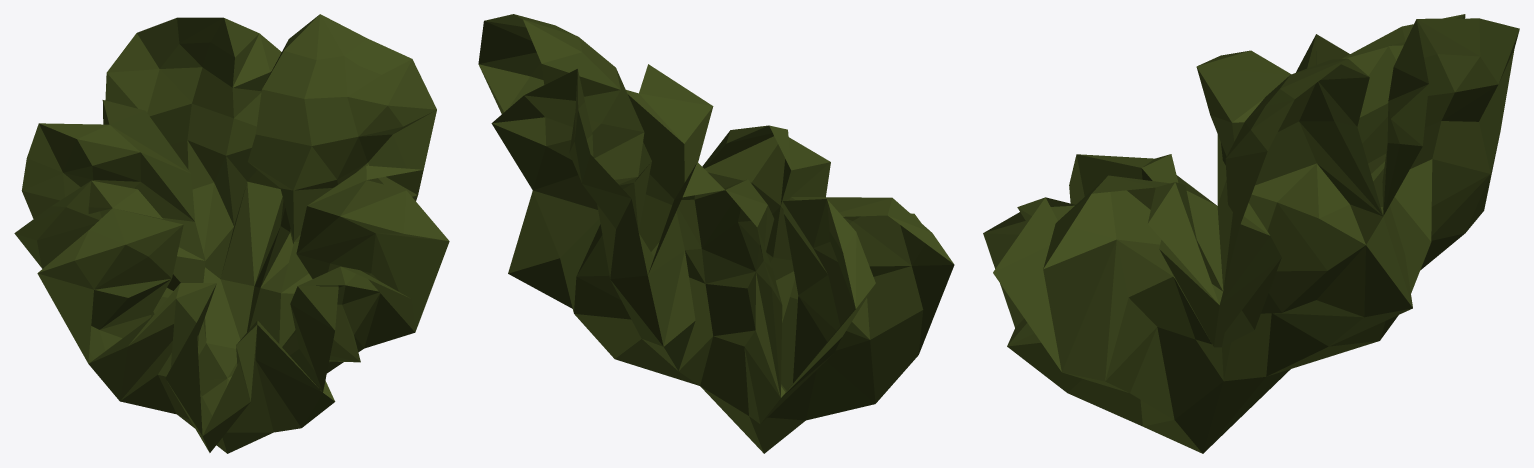
File: SM_Seaweed_Salad_Dead_A.fbx
The picture shows the model from 3 angles, left to right: view 1: azimuth 30°, elevation 25°; view 2: azimuth 150°, elevation 25°; view 3: azimuth 270°, elevation 25°; orthographic projection. The views are drawn at different scales.
Visible parts, largest first — view 1: seaweed-salad-dead-a; view 2: seaweed-salad-dead-a; view 3: seaweed-salad-dead-a.
Part boxes in pixels (x1,y1,x2,y2): seaweed-salad-dead-a: [14, 14, 449, 453]; seaweed-salad-dead-a: [478, 14, 954, 453]; seaweed-salad-dead-a: [983, 14, 1519, 453].
Bounding box in the file's own units: 1.33 × 1.16 × 1.15.
